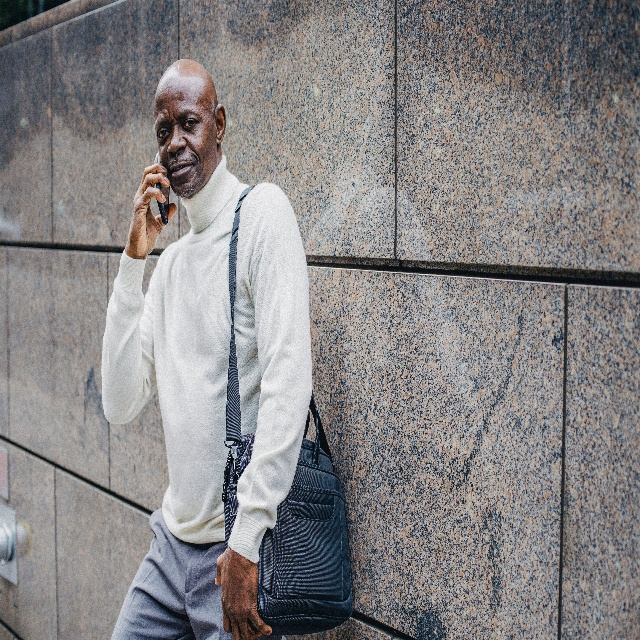Sin_guantes: (212, 544, 273, 640), (127, 153, 177, 256)
